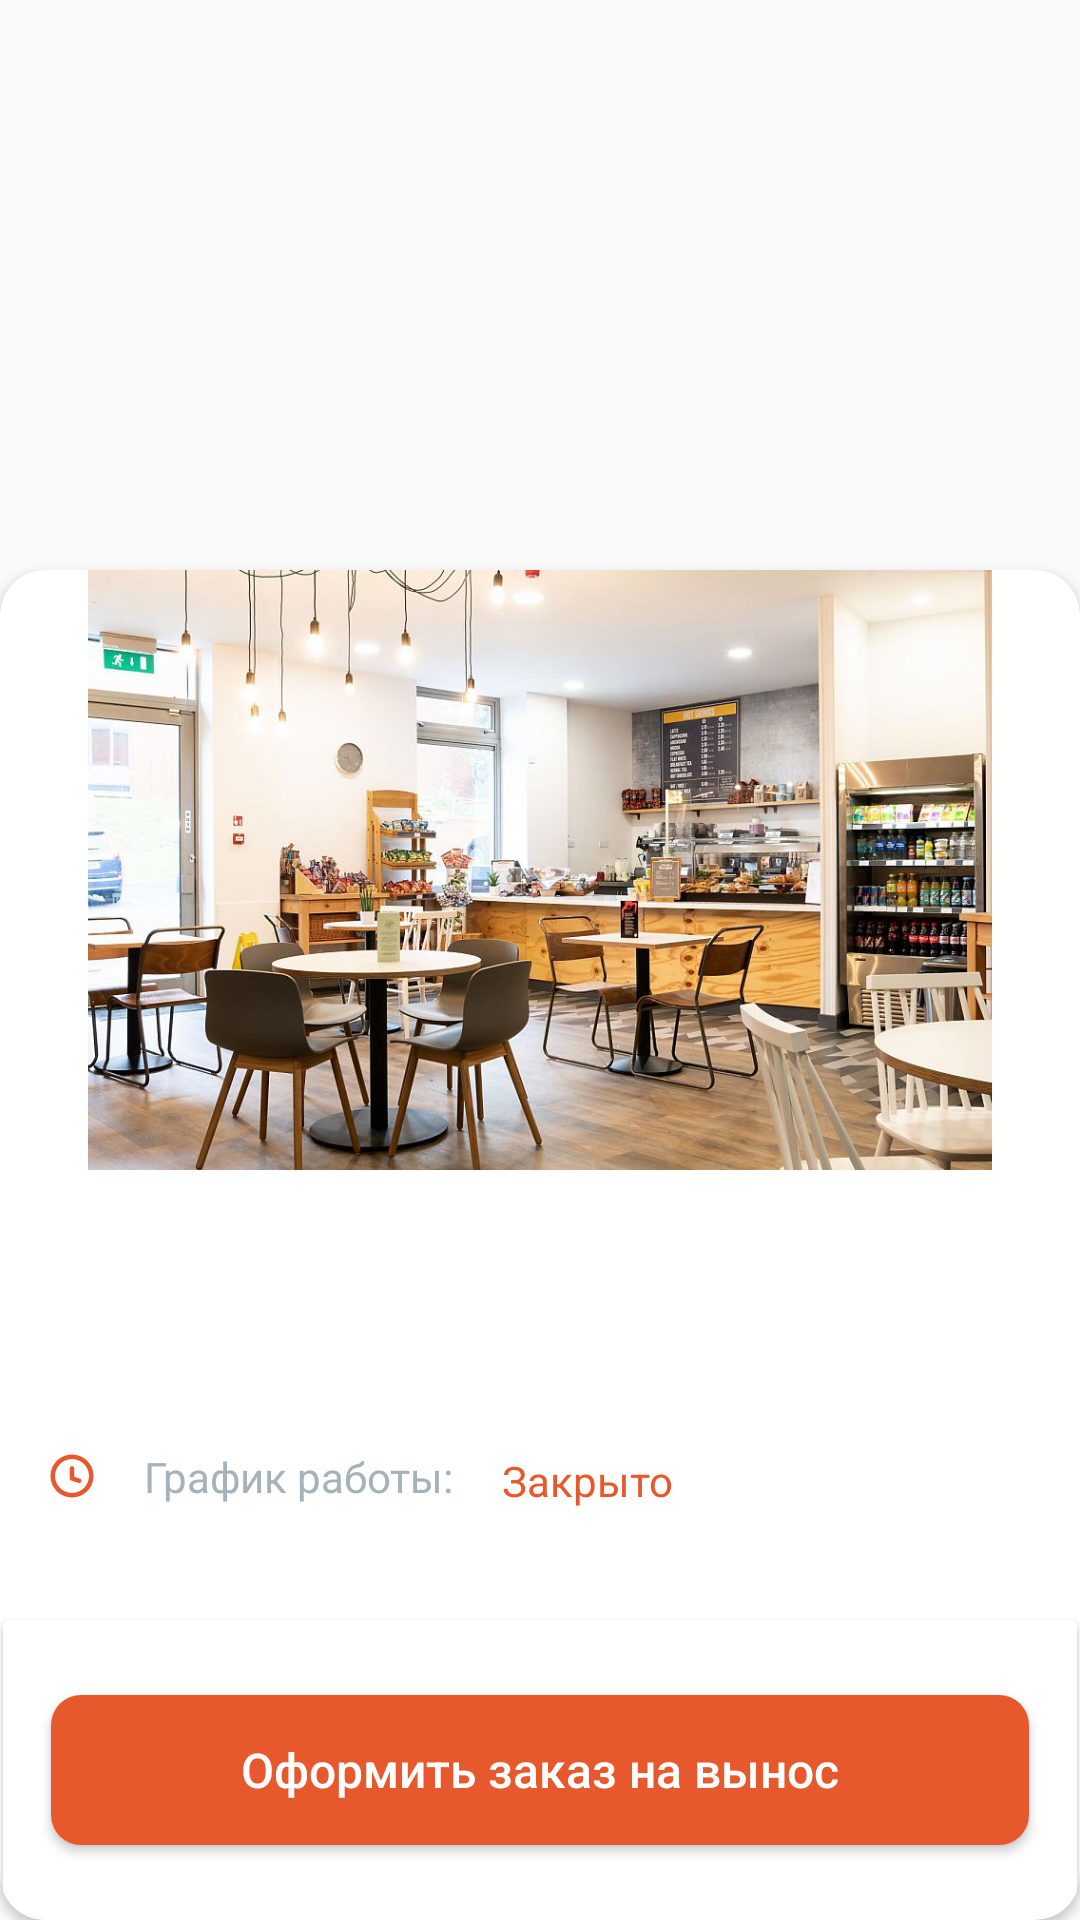

Icon click points for this 1080 × 1920 phone screenshot, format (x,y):
clock: (72,1476)
